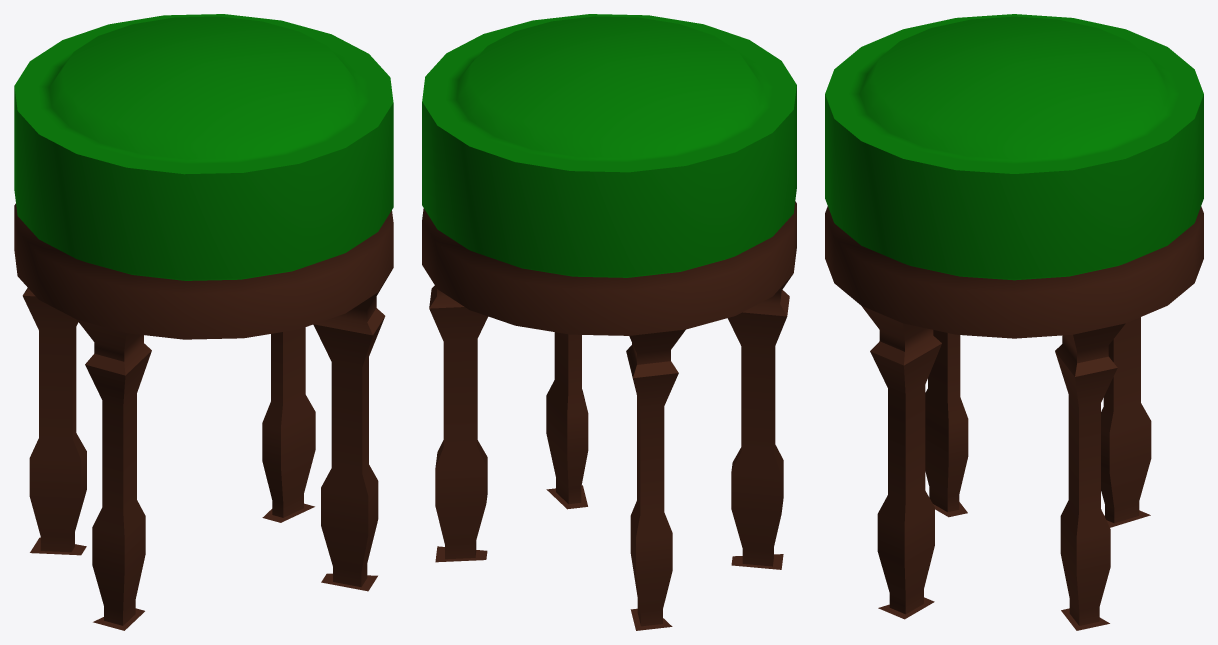
File: bar stool.fbx
3 views of the same model, side by side, from view 1: azimuth 30°, elevation 25°; view 2: azimuth 150°, elevation 25°; view 3: azimuth 270°, elevation 25° (orthographic).
Parts seen in each view (by area): view 1: pCylinder1; view 2: pCylinder1; view 3: pCylinder1.
Part boxes in pixels (x1,y1,x2,y2): pCylinder1: [14, 14, 393, 630]; pCylinder1: [422, 14, 796, 630]; pCylinder1: [825, 14, 1203, 630].
Size of the model in its own units: 2 by 2.9 by 2.
